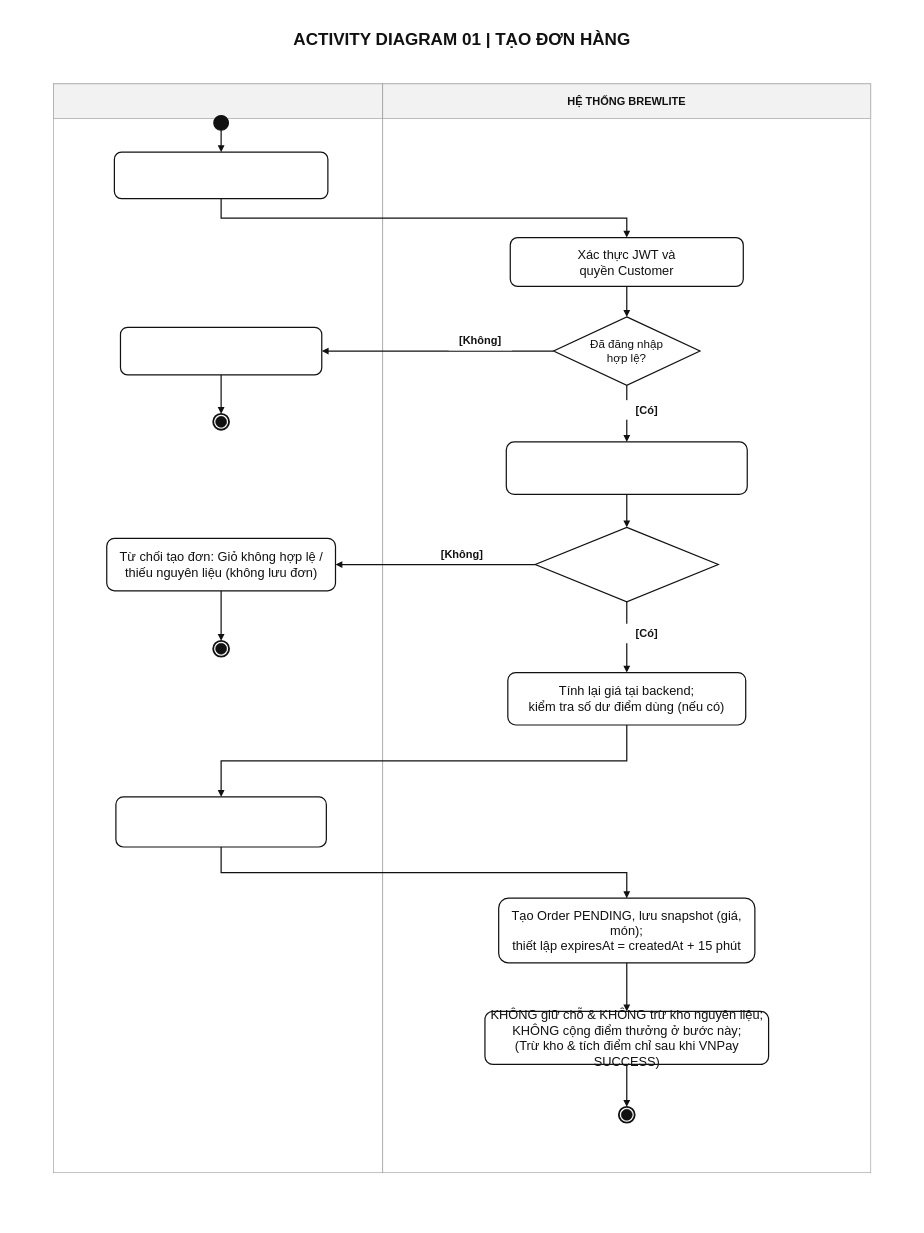
The diagram is 924 pixels wide and 1233 high, and some of its shapes have lost their labels. The shapes that lost their labels are listed below. From the top down, each one's box as (x1, y1, x2, y2) in pixels, then its label:
(53, 83, 383, 119): KHÁCH HÀNG (Customer)
(113, 151, 328, 199): Xem giỏ hàng và chọn Đặt hàng
(120, 326, 322, 375): Yêu cầu đăng nhập để đặt đơn
(505, 441, 748, 495): Kiểm tra tính hợp lệ của giỏ hàng và độ sẵn sàng của kho nguyên liệu
(534, 526, 719, 602): Dữ liệu hợp lệ & đủ nguyên liệu khả dụng?
(115, 796, 327, 847): Xem số tiền cuối và xác nhận đặt đơn
